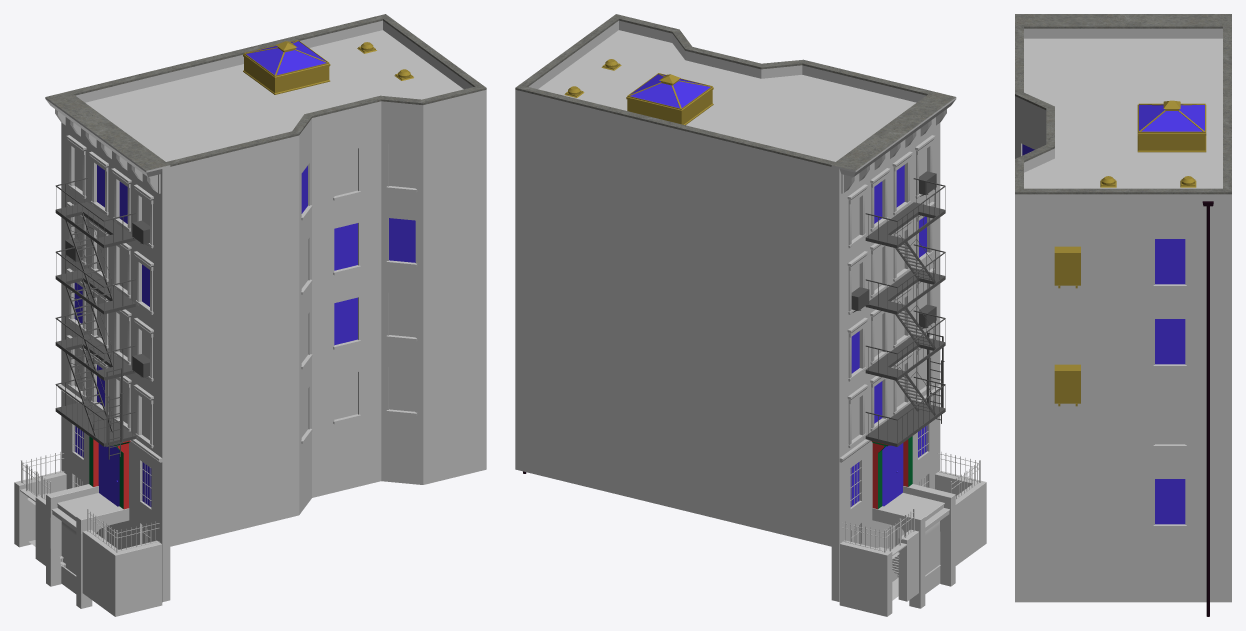
Rendered from mcp_building_15_LOD_0.FBX.
3 views of the same model, side by side, from view 1: azimuth 30°, elevation 25°; view 2: azimuth 150°, elevation 25°; view 3: azimuth 270°, elevation 25° (orthographic). The views are drawn at different scales.
Parts seen in each view (by area): view 1: mcp_building_15_walls, mcp_building_15_concrete_01, mcp_building_15, mcp_building_15_roof, mcp_building_15_props_01, mcp_building_15_concrete_03, mcp_building_15_props_02, mcp_building_15_metal, mcp_building_15_concrete_04; view 2: mcp_building_15_walls, mcp_building_15_concrete_01, mcp_building_15_roof, mcp_building_15, mcp_building_15_props_01, mcp_building_15_concrete_03, mcp_building_15_props_02, mcp_building_15_metal; view 3: mcp_building_15_walls, mcp_building_15_roof, mcp_building_15, mcp_building_15_props_02, mcp_building_15_concrete_03, mcp_building_15_concrete_04.
Boxes of the visible parts, x1=… form: mcp_building_15_walls: x1=58, y1=20, x2=486, y2=602; mcp_building_15_concrete_01: x1=14, y1=135, x2=162, y2=616; mcp_building_15: x1=45, y1=91, x2=415, y2=549; mcp_building_15_roof: x1=85, y1=30, x2=463, y2=161; mcp_building_15_props_01: x1=55, y1=177, x2=149, y2=459; mcp_building_15_concrete_03: x1=69, y1=14, x2=486, y2=166; mcp_building_15_props_02: x1=243, y1=40, x2=413, y2=94; mcp_building_15_metal: x1=21, y1=426, x2=159, y2=552; mcp_building_15_concrete_04: x1=301, y1=186, x2=417, y2=443; mcp_building_15_walls: x1=515, y1=20, x2=940, y2=601; mcp_building_15_concrete_01: x1=839, y1=135, x2=986, y2=616; mcp_building_15_roof: x1=538, y1=30, x2=916, y2=161; mcp_building_15: x1=523, y1=91, x2=956, y2=548; mcp_building_15_props_01: x1=851, y1=171, x2=945, y2=446; mcp_building_15_concrete_03: x1=515, y1=14, x2=931, y2=166; mcp_building_15_props_02: x1=564, y1=59, x2=713, y2=125; mcp_building_15_metal: x1=842, y1=425, x2=980, y2=552; mcp_building_15_walls: x1=1015, y1=28, x2=1231, y2=602; mcp_building_15_roof: x1=1024, y1=38, x2=1222, y2=188; mcp_building_15: x1=1015, y1=14, x2=1231, y2=616; mcp_building_15_props_02: x1=1054, y1=100, x2=1206, y2=406; mcp_building_15_concrete_03: x1=1015, y1=26, x2=1231, y2=194; mcp_building_15_concrete_04: x1=1153, y1=284, x2=1186, y2=528.
Bounding box in the file's own units: 2200 × 2605 × 998.
